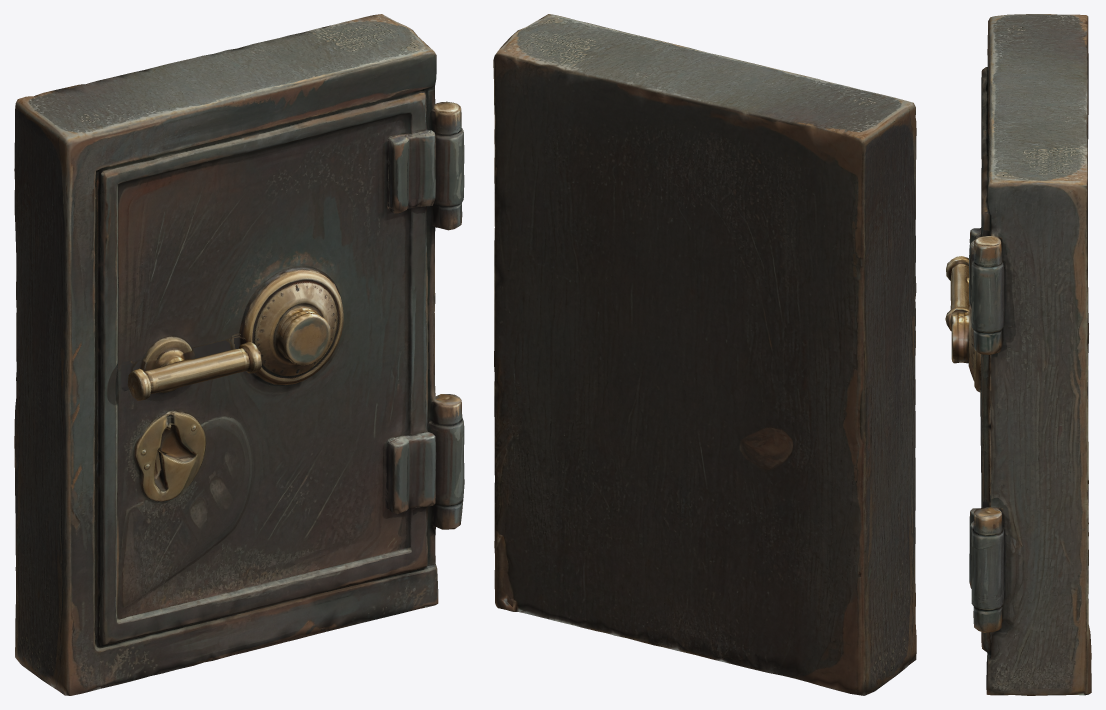
The model's file is Furn_Safe_Door.fbx.
3 views of the same model, side by side, from view 1: azimuth 30°, elevation 25°; view 2: azimuth 150°, elevation 25°; view 3: azimuth 270°, elevation 25° (orthographic). The views are drawn at different scales.
Visible parts, largest first — view 1: texture_mapping; view 2: texture_mapping; view 3: texture_mapping.
Boxes of the visible parts, x1,y1,x2,y2 form: texture_mapping: [14, 14, 464, 695]; texture_mapping: [493, 14, 916, 695]; texture_mapping: [945, 14, 1091, 695].
Bounding box in the file's own units: 0.7388 × 0.2547 × 0.9954.
Materials: 1 (1 with a texture image).
